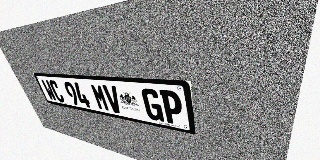4: (72, 82, 91, 108)
9: (62, 81, 81, 106)
C: (48, 80, 66, 103)
G: (141, 88, 164, 122)
M: (90, 84, 111, 112)
P: (159, 90, 184, 126)
V: (102, 85, 124, 114)
W: (41, 79, 58, 101)
